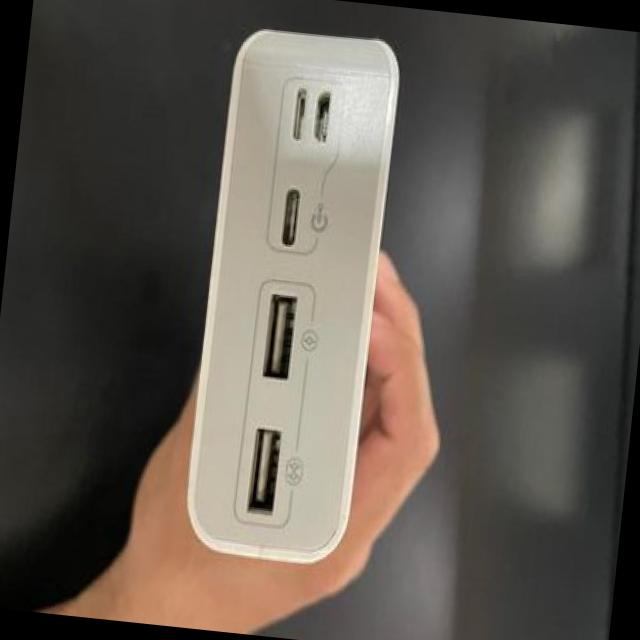portable-charger: (173, 16, 410, 578)
